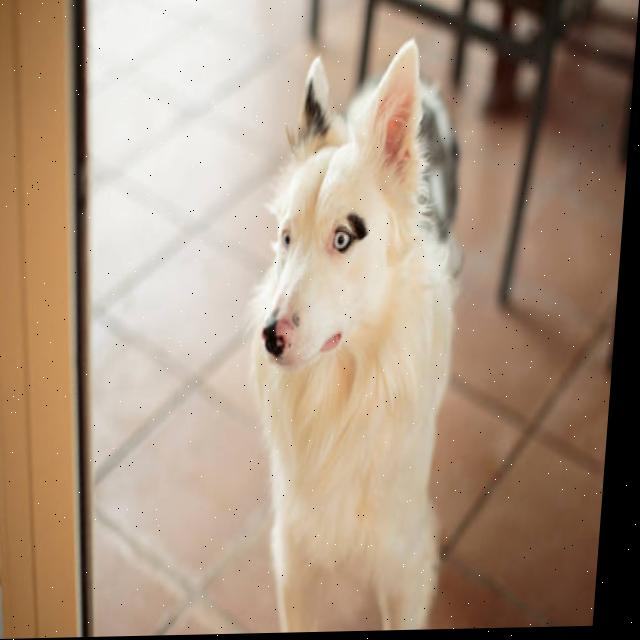BORDER_COLLIE: (206, 38, 514, 636)
